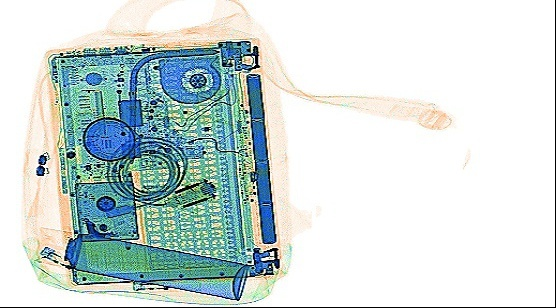lighter: (37, 243, 103, 281), (131, 275, 203, 294)
pressure: (32, 224, 250, 302)
